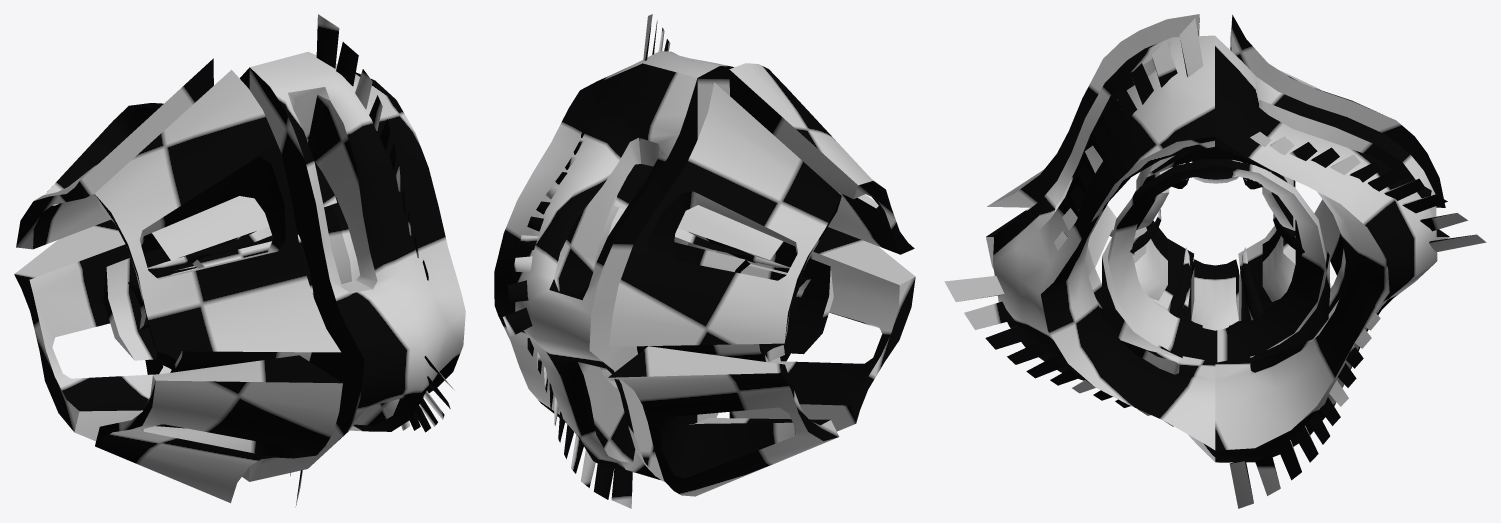
The model's file is galaxygate_epsilon.obj.
3 renders of one model, left to right at view 1: azimuth 30°, elevation 25°; view 2: azimuth 150°, elevation 25°; view 3: azimuth 270°, elevation 25°, orthographic. The views are drawn at different scales.
Visible parts, largest first — view 1: galaxygate_epsilon; view 2: galaxygate_epsilon; view 3: galaxygate_epsilon.
Boxes of the visible parts, box(x1,y1,x2,y2) form: galaxygate_epsilon: box(14, 14, 465, 507); galaxygate_epsilon: box(494, 14, 915, 508); galaxygate_epsilon: box(944, 14, 1486, 508).
Bounding box in the file's own units: 349 × 586 × 586.
1 material, 1 textured.
